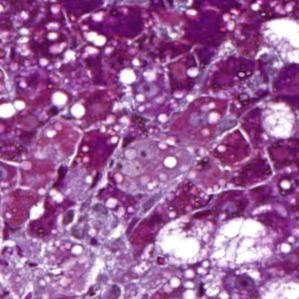ballooning: (149, 208, 220, 267), (209, 215, 275, 272), (253, 16, 297, 65), (259, 101, 295, 141)
